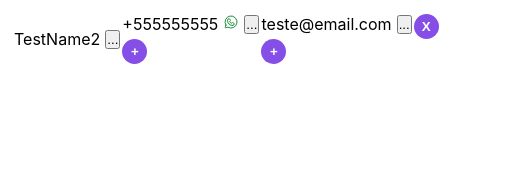
Test case: TableRow component › email add button should render expected elements
Click the button "+" below "teste@email.com".
click(274, 52)  # box [262,39,286,64]
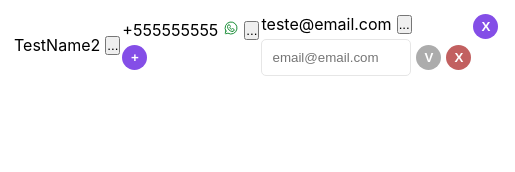
Expected: the field with placeholder "email@email.com" is shown, [262,39,412,76]
